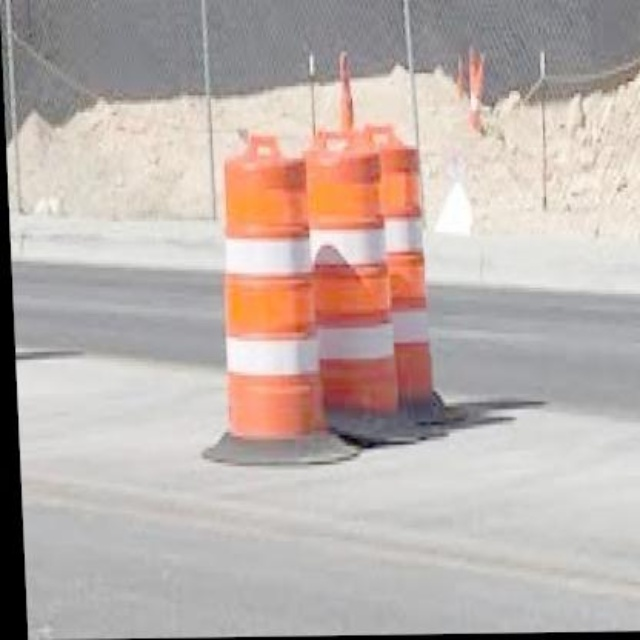obstacle: (213, 151, 318, 444), (301, 128, 395, 421)
